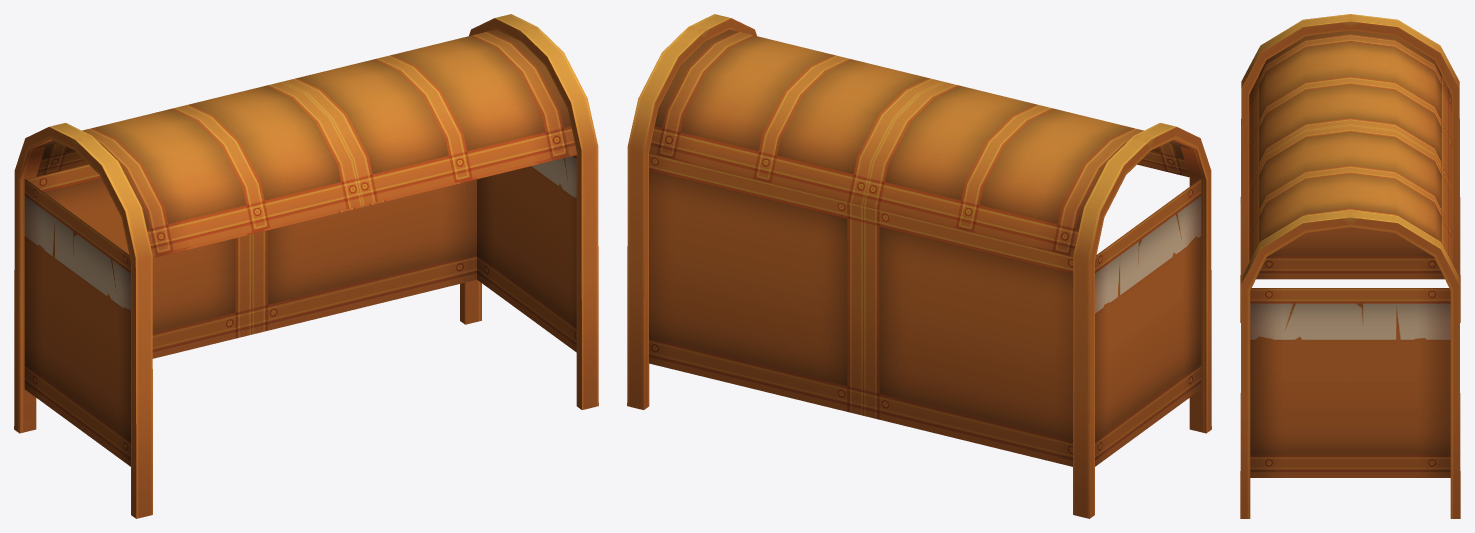
Rendered from SYJ_gongjiaozhan01.FBX.
3 renders of one model, left to right at view 1: azimuth 30°, elevation 25°; view 2: azimuth 150°, elevation 25°; view 3: azimuth 270°, elevation 25°, orthographic. The views are drawn at different scales.
Parts seen in each view (by area): view 1: SYJ_gongjiaozhan01; view 2: SYJ_gongjiaozhan01; view 3: SYJ_gongjiaozhan01.
Boxes of the visible parts, x1,y1,x2,y2 form: SYJ_gongjiaozhan01: (14,14,598,518); SYJ_gongjiaozhan01: (627,14,1211,518); SYJ_gongjiaozhan01: (1240,14,1460,518).
Bounding box in the file's own units: 204 × 141 × 93.26.
